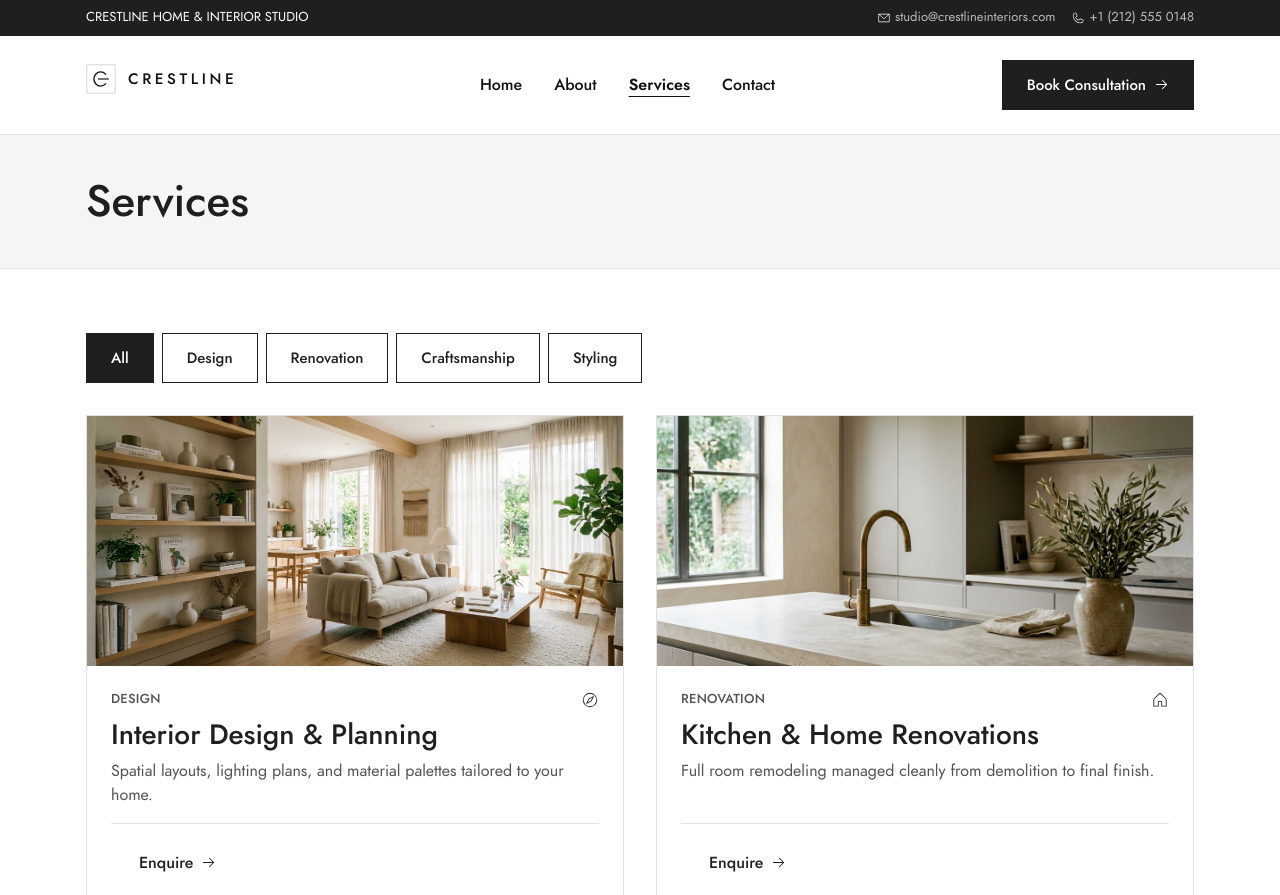
Test: Crestline Home & Interior Services Website › filters services by category and pre-fills contact subject on enquire
Expected: the heading "Services" is shown, [86, 170, 249, 232]
Click the button "Design" at (210, 358), box [162, 333, 258, 383]
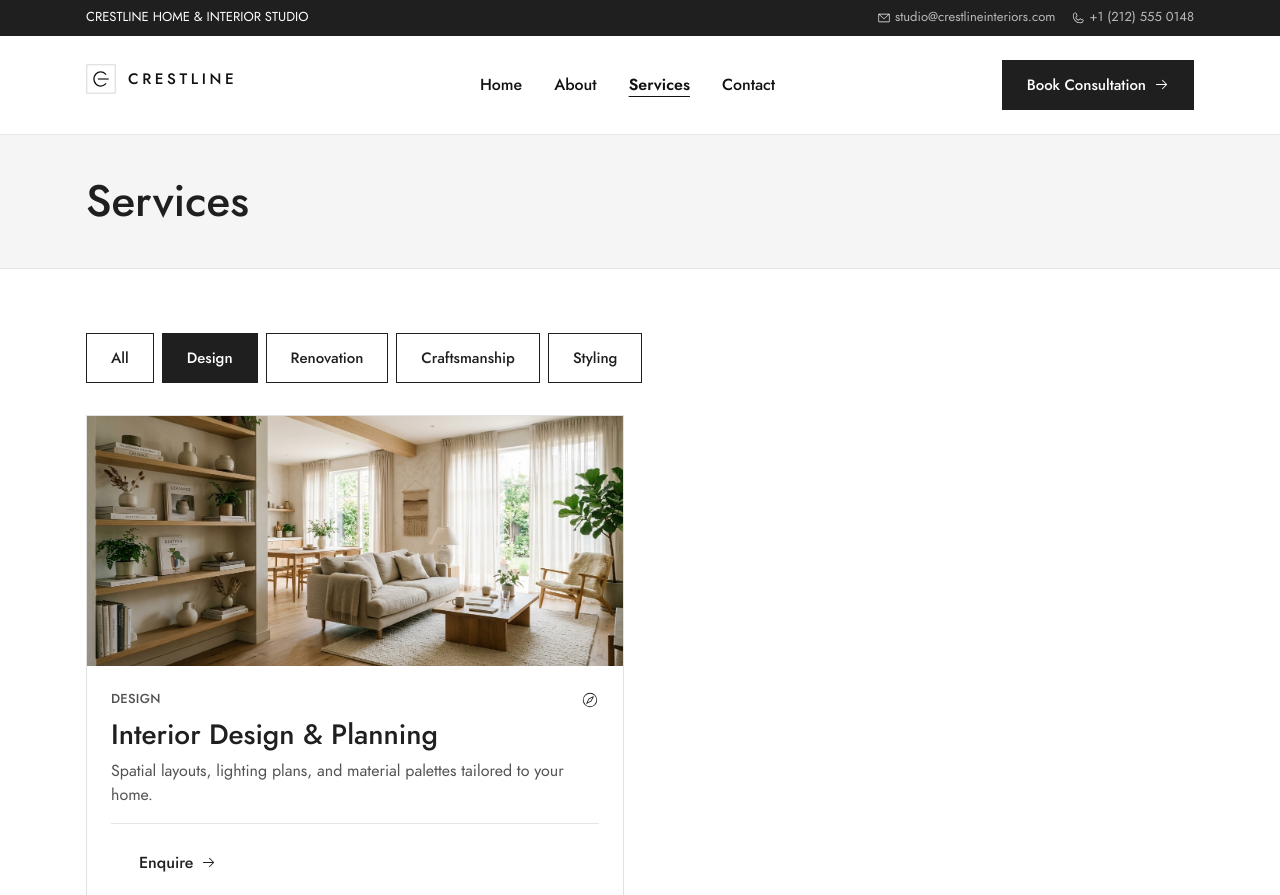
Expected: the heading "Interior Design & Planning" is shown, [111, 715, 438, 754]
Now the heading "Kitchen & Home Renovations" is gone
Click the button "All" at (120, 358), box [86, 333, 154, 383]
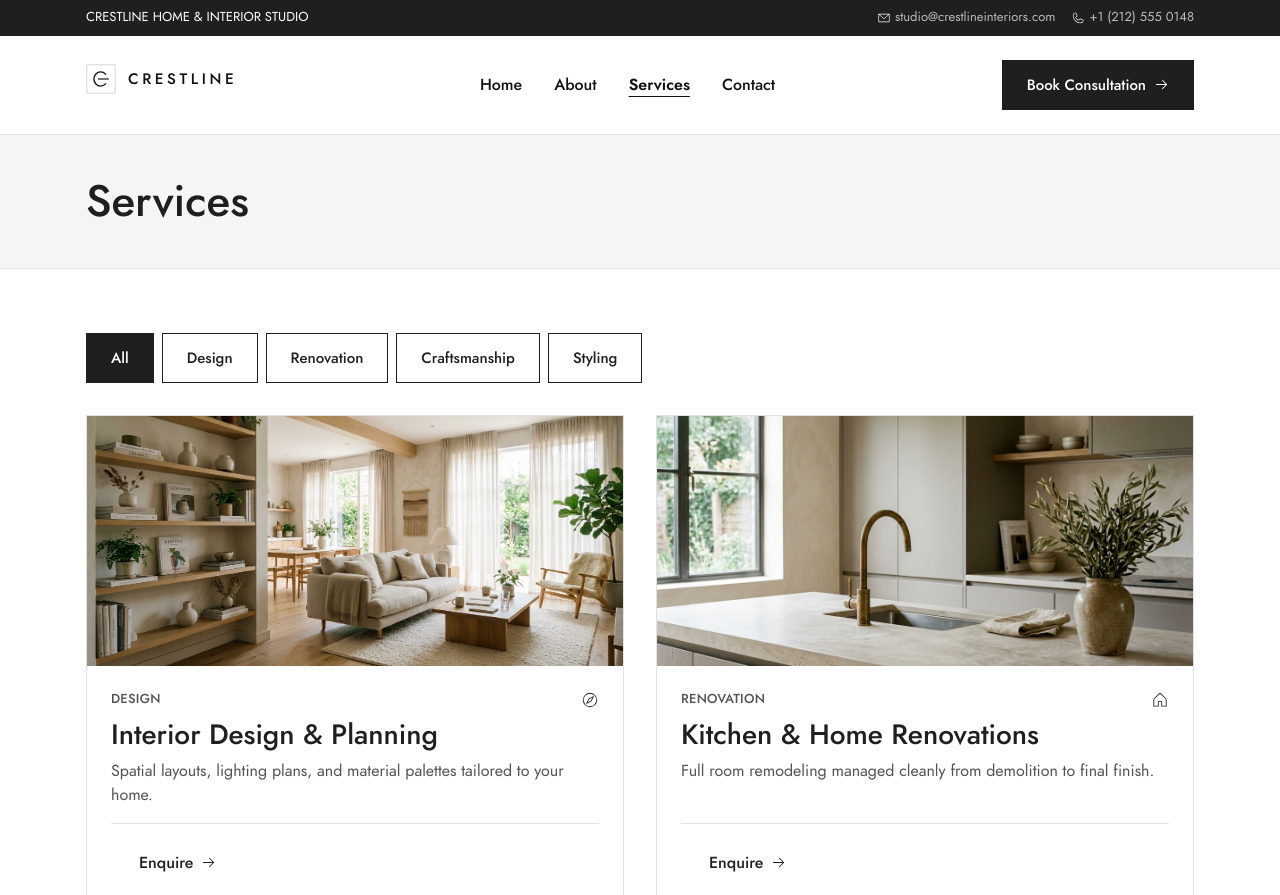
Now the heading "Kitchen & Home Renovations" is shown, box [681, 715, 1039, 754]
Click the link "Enquire" below "Interior Design & Planning" at (178, 862), box [139, 851, 216, 874]
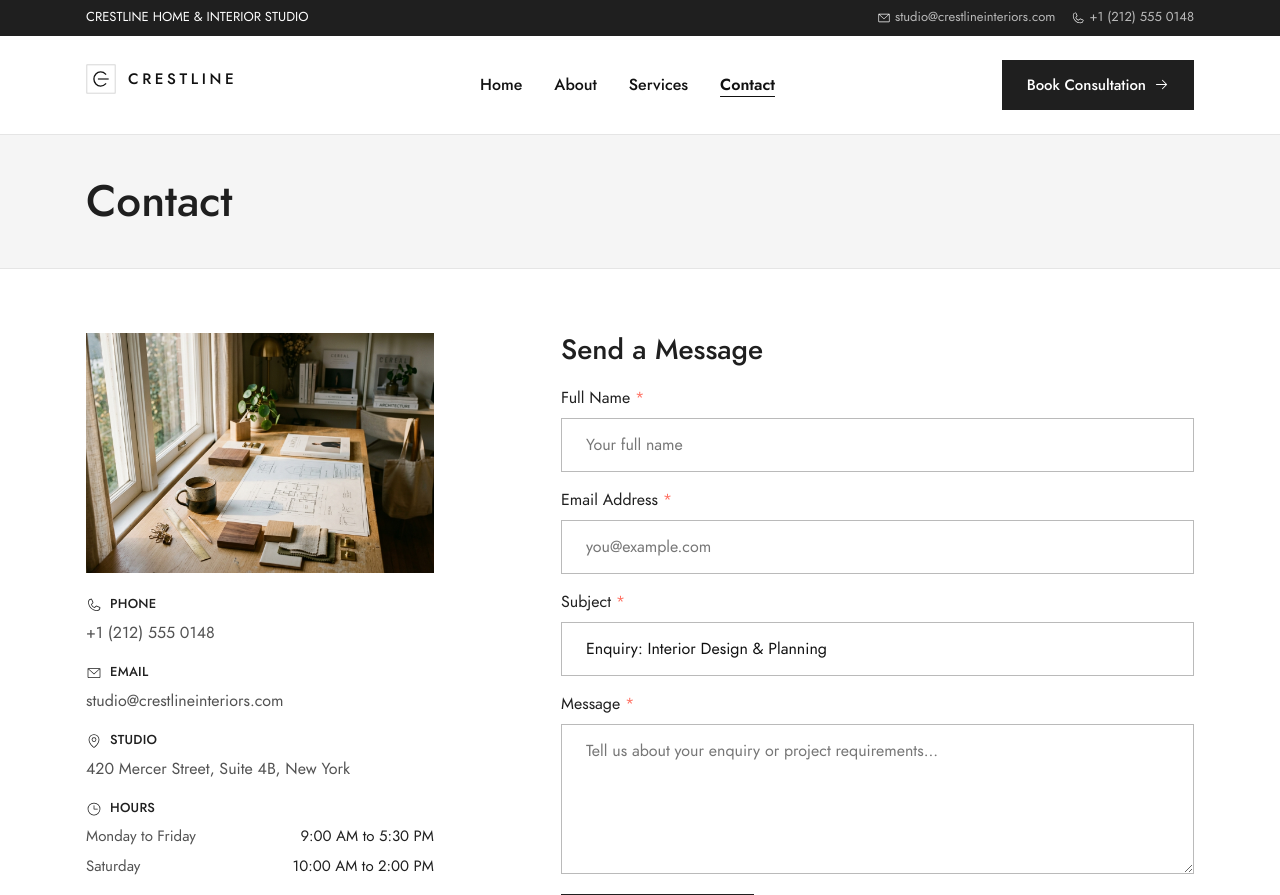
Now the heading "Send a Message" is shown, box [561, 330, 763, 369]
Now the field labelled "Subject *" holds "Enquiry: Interior Design & Planning", box [561, 622, 1194, 676]
